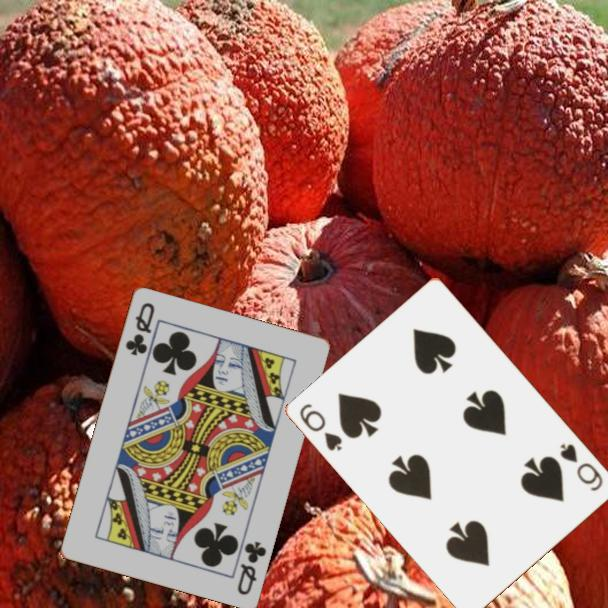c12: (233, 537, 269, 597), (122, 299, 157, 358)
s06: (296, 400, 346, 454), (557, 439, 606, 494)
